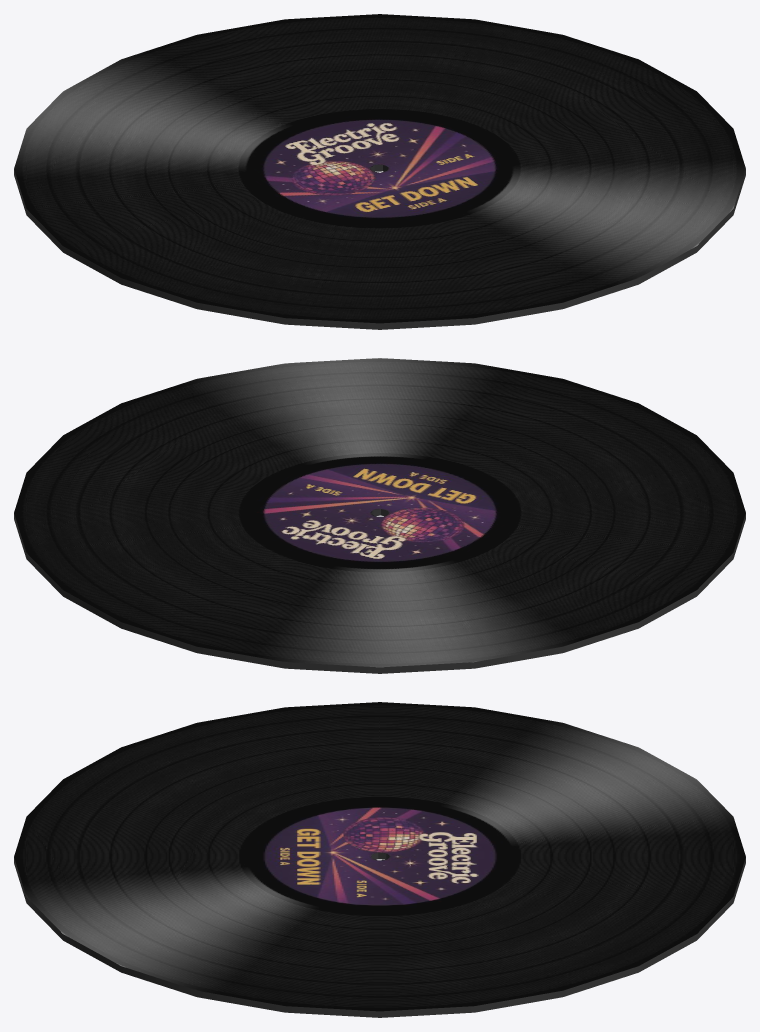
The model's file is vinylrecord.glb.
3 renders of one model, top to bottom at view 1: azimuth 30°, elevation 25°; view 2: azimuth 150°, elevation 25°; view 3: azimuth 270°, elevation 25°, orthographic.
Visible parts, largest first — view 1: vinylalbumRecord; view 2: vinylalbumRecord; view 3: vinylalbumRecord.
Boxes of the visible parts, x1,y1,x2,y2 form: vinylalbumRecord: (14, 14, 745, 329); vinylalbumRecord: (14, 358, 745, 673); vinylalbumRecord: (14, 702, 745, 1017).
Size of the model in its own units: 0.46 by 0.00453 by 0.46.
Materials: 1 (1 with a texture image).
